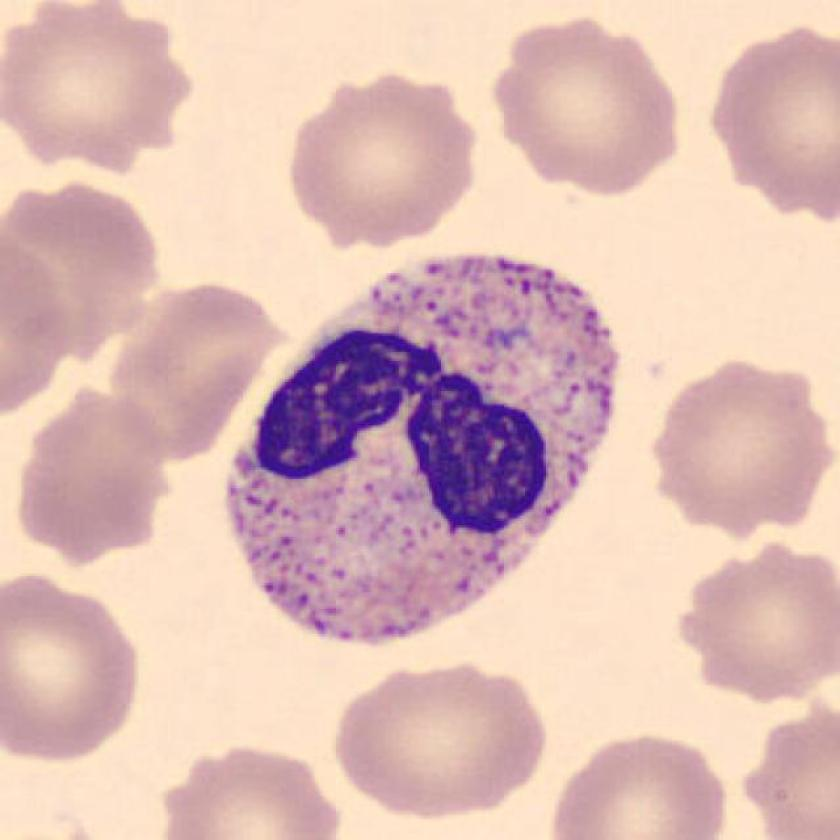neutrophil: (227, 256, 621, 639)
